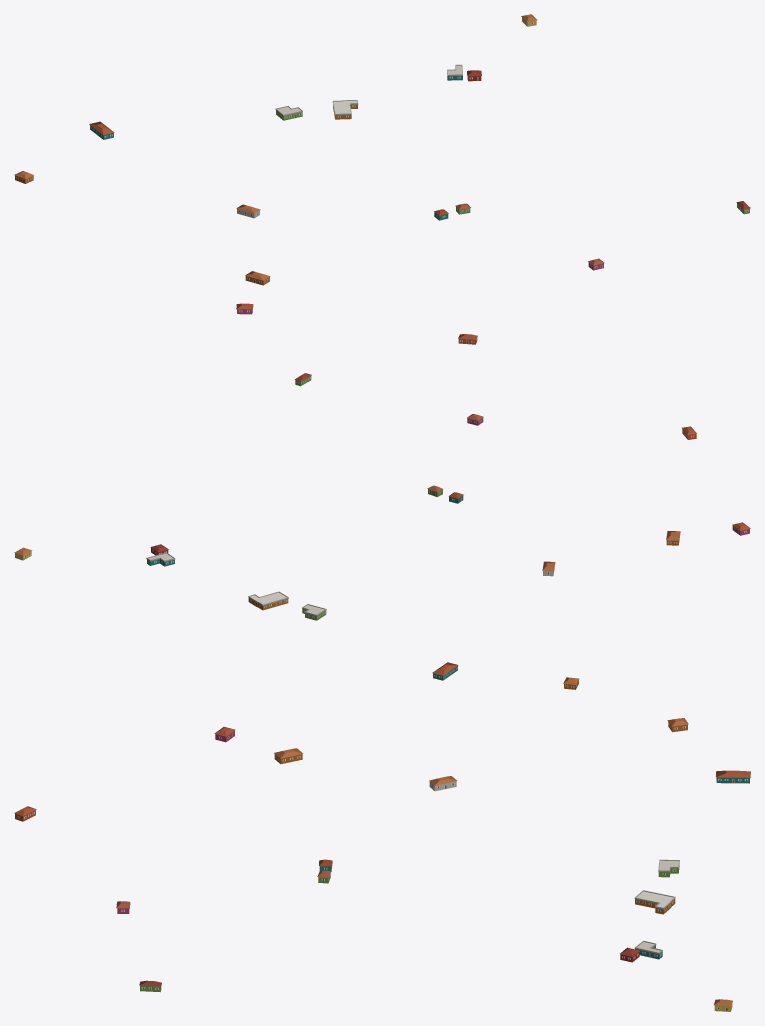
File: msb_oranjestad_m14_0.glb
3 views of the same model, one above another, from view 1: azimuth 30°, elevation 25°; view 2: azimuth 150°, elevation 25°; view 3: azimuth 270°, elevation 25° (orthographic). The views are drawn at different scales.
Parts seen in each view (by area): view 1: msb_oranjestad_m14_0_lod0; view 2: msb_oranjestad_m14_0_lod0; view 3: msb_oranjestad_m14_0_lod0.
Part boxes in pixels (x1,y1,x2,y2): msb_oranjestad_m14_0_lod0: (14,14,750,344); msb_oranjestad_m14_0_lod0: (14,373,750,689); msb_oranjestad_m14_0_lod0: (14,718,750,1011).
Size of what is drawn, in the model's own units: 384 by 15.88 by 392.
Materials: 3 (1 with a texture image).
